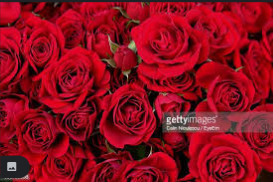RedRose: (44, 47, 104, 106), (134, 18, 200, 70), (101, 89, 157, 148), (196, 135, 254, 182), (199, 71, 253, 121), (16, 108, 60, 157), (32, 144, 87, 182), (242, 103, 273, 170), (22, 23, 61, 70), (58, 103, 97, 140), (56, 10, 86, 53), (157, 93, 191, 123)
